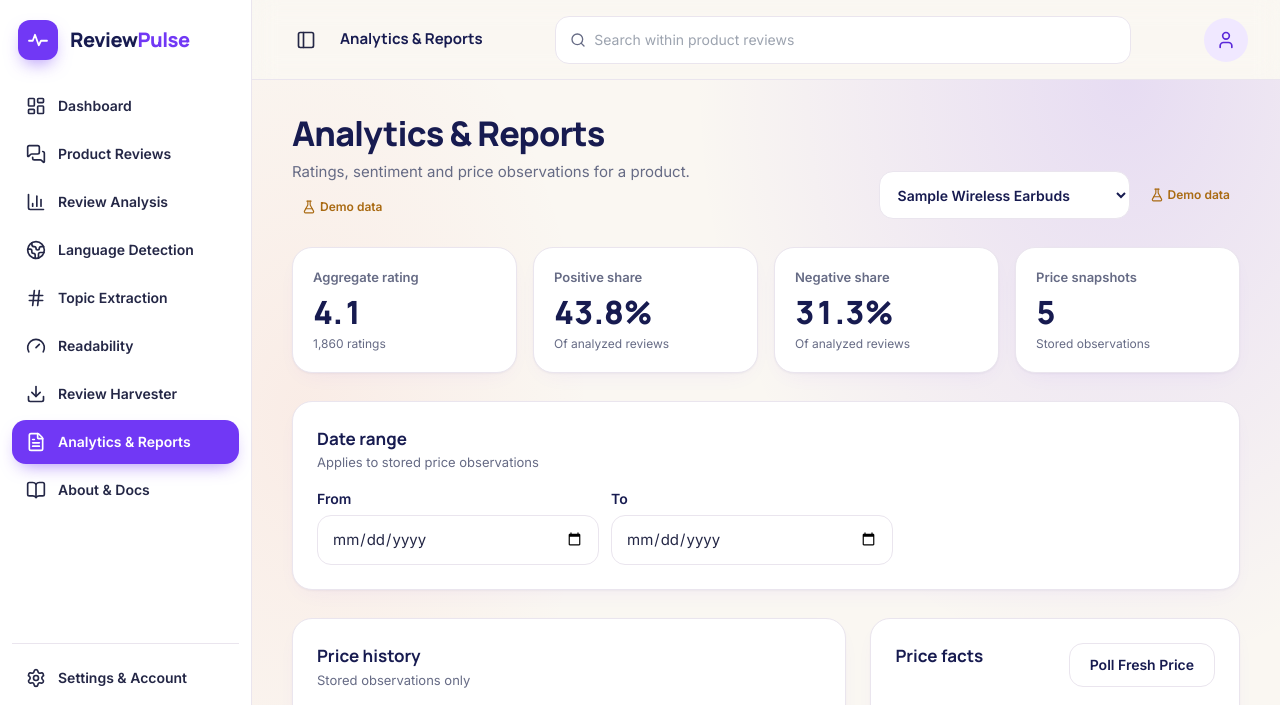
Test: data honesty › analytics refuses to draw a price trend from fewer than two snapshots
Expected: the heading "Price history" is shown, [317,644,421,667]
Type "2026-10-09" into the date field labelled "From" at [458, 540], box [332,516,584,564]
(page scrolled)
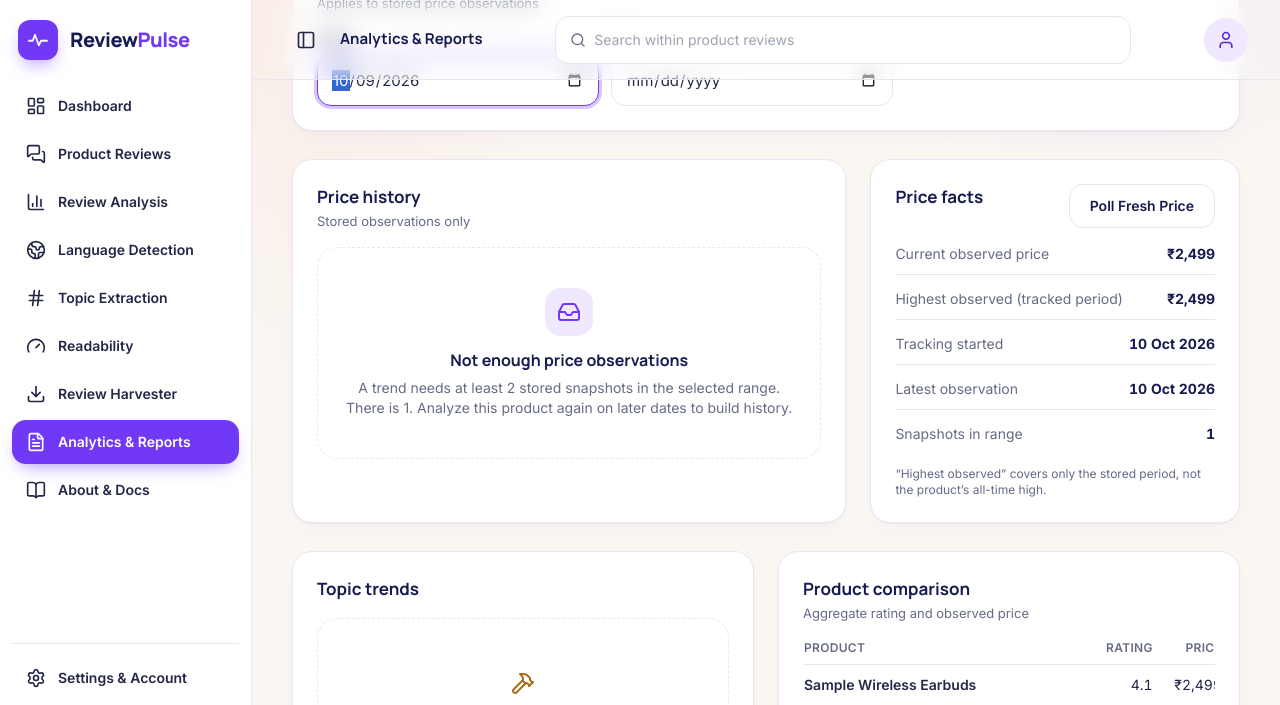
Expected: the heading "Not enough price observations" is shown, [450,348,688,372]
